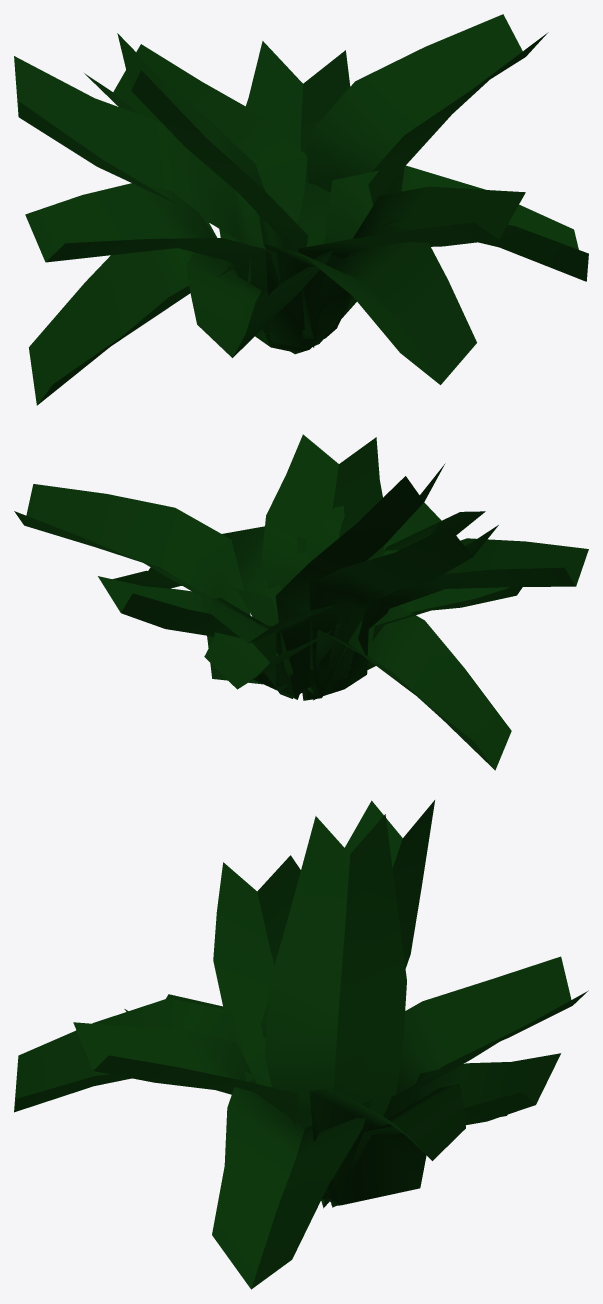
File: Fern_02.fbx
The picture shows the model from 3 angles, top to bottom: view 1: azimuth 30°, elevation 25°; view 2: azimuth 150°, elevation 25°; view 3: azimuth 270°, elevation 25°; orthographic projection. The views are drawn at different scales.
Visible parts, largest first — view 1: fern_02_LOD0; view 2: fern_02_LOD0; view 3: fern_02_LOD0.
Boxes of the visible parts, <box> form: fern_02_LOD0: <box>14,14,588,405</box>; fern_02_LOD0: <box>14,434,588,770</box>; fern_02_LOD0: <box>14,800,588,1289</box>.
Size of what is drawn, in the model's own units: 332 by 186 by 294.
